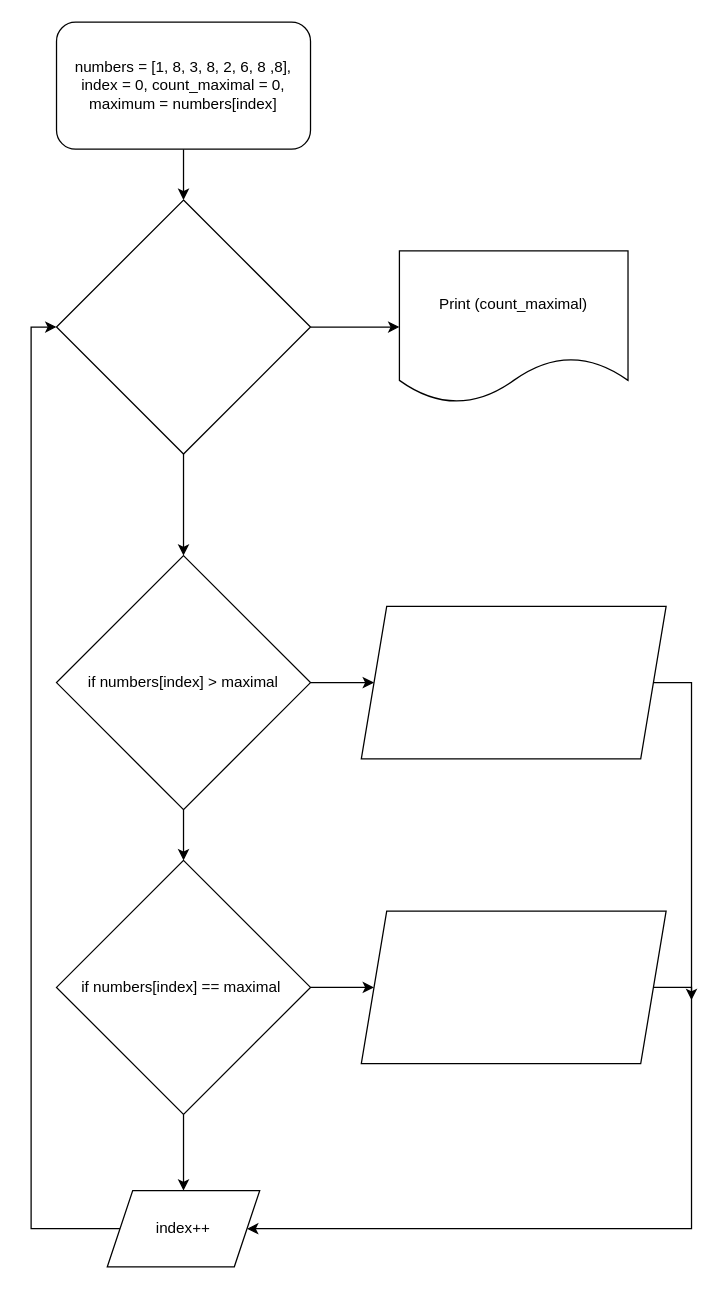
Some shapes in this 724 by 1289 pixel diagram are drawn without their labels. Here are the shapes that lost their labels. From the top down, the box of each, then its label:
(55, 199, 311, 454): While index < numbers.lenth
(360, 605, 666, 759): maximal = numbers [index], count_maximal = 0
(360, 910, 666, 1064): count_maximal++
